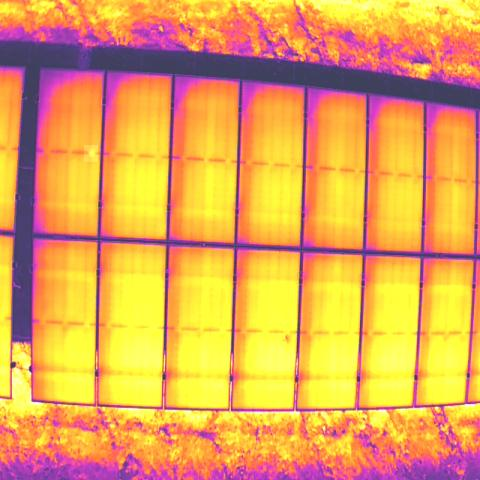fault: (84, 145, 98, 162)
